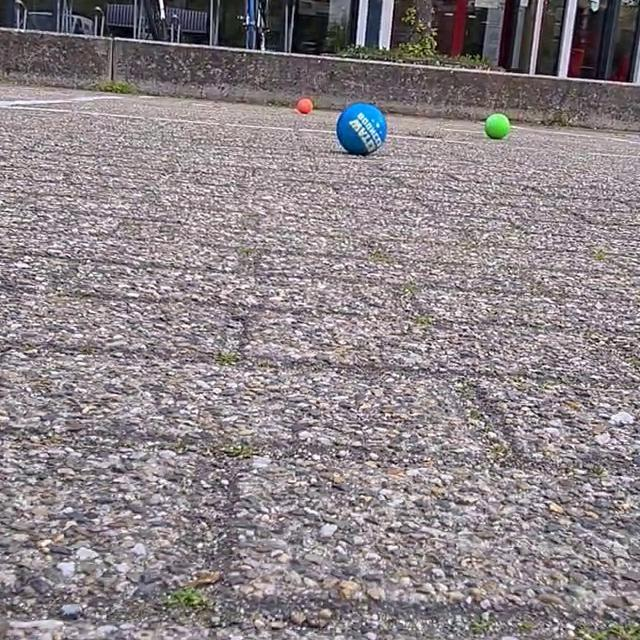ball: (482, 110, 512, 141)
